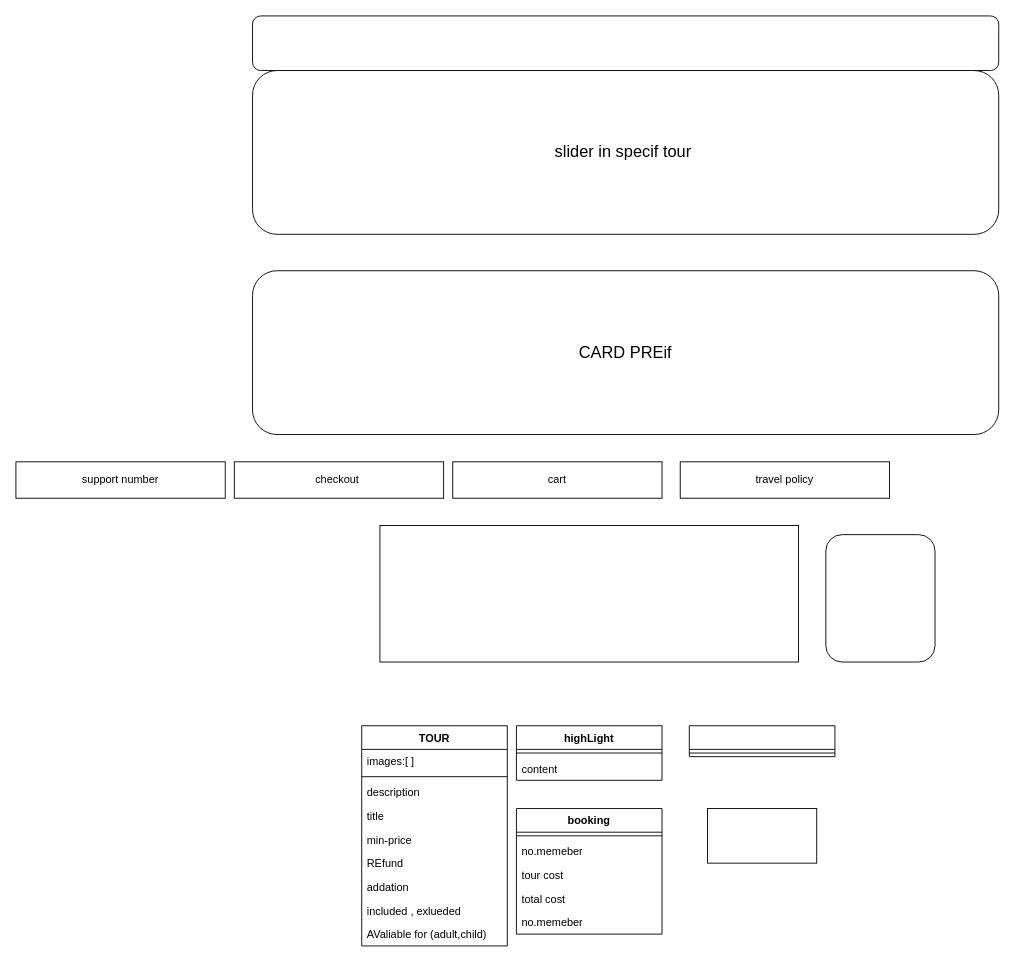
Image size: 1015x965. Some labels were removed from this diagram. The centre of each missing label's shape, as x and y in pixels:
"1- imgae 2-wishlist 3-titile 4-price" goes at point (880, 598).
"FQA 1-date pattern 2-copon" goes at point (762, 835).
"navbar" goes at point (625, 43).
"outside card" goes at point (589, 593).
"Schedule" goes at point (761, 741).
